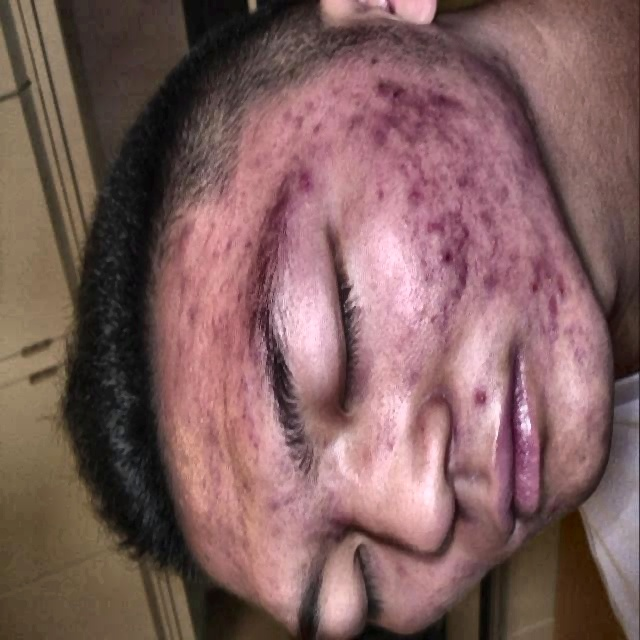papule: (286, 166, 322, 204), (397, 116, 426, 161), (514, 143, 539, 191), (390, 66, 411, 110), (435, 232, 454, 274), (557, 316, 581, 348), (431, 116, 456, 145), (438, 89, 467, 114), (365, 120, 385, 156), (388, 104, 414, 130), (298, 84, 322, 112), (480, 262, 501, 294), (408, 162, 426, 199), (446, 195, 465, 230), (544, 284, 563, 318), (187, 297, 205, 330), (459, 258, 475, 295), (449, 166, 476, 187), (308, 116, 326, 147), (472, 212, 503, 230), (551, 261, 568, 293), (472, 374, 486, 411), (430, 204, 446, 236), (528, 268, 543, 297), (285, 102, 301, 128), (345, 109, 360, 135), (461, 134, 476, 158), (374, 70, 386, 99), (397, 143, 408, 172), (177, 282, 192, 301), (498, 179, 508, 207)
